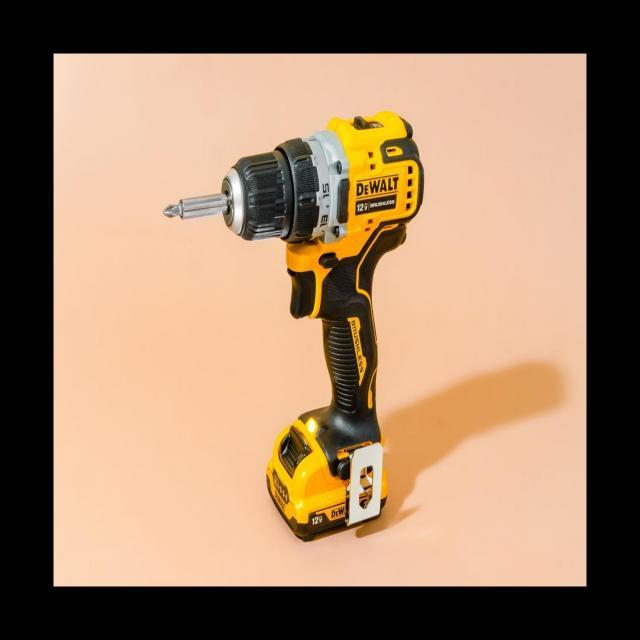drill: (162, 110, 424, 542)
